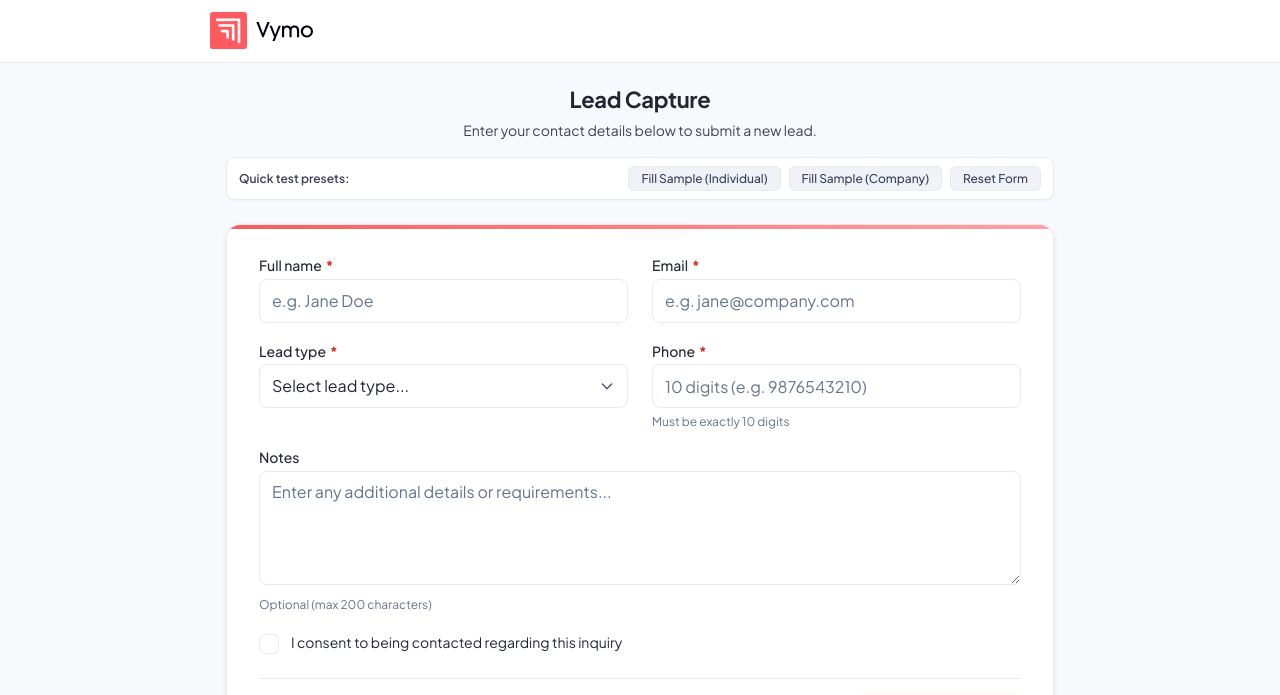
it: LeadCapturePage › displays pattern format error on phone when invalid value entered
This screenshot has width=1280, height=695.
In the field labelled "Phone*": (836, 386) top-left (652, 364), bottom-right (1021, 408), type "123"
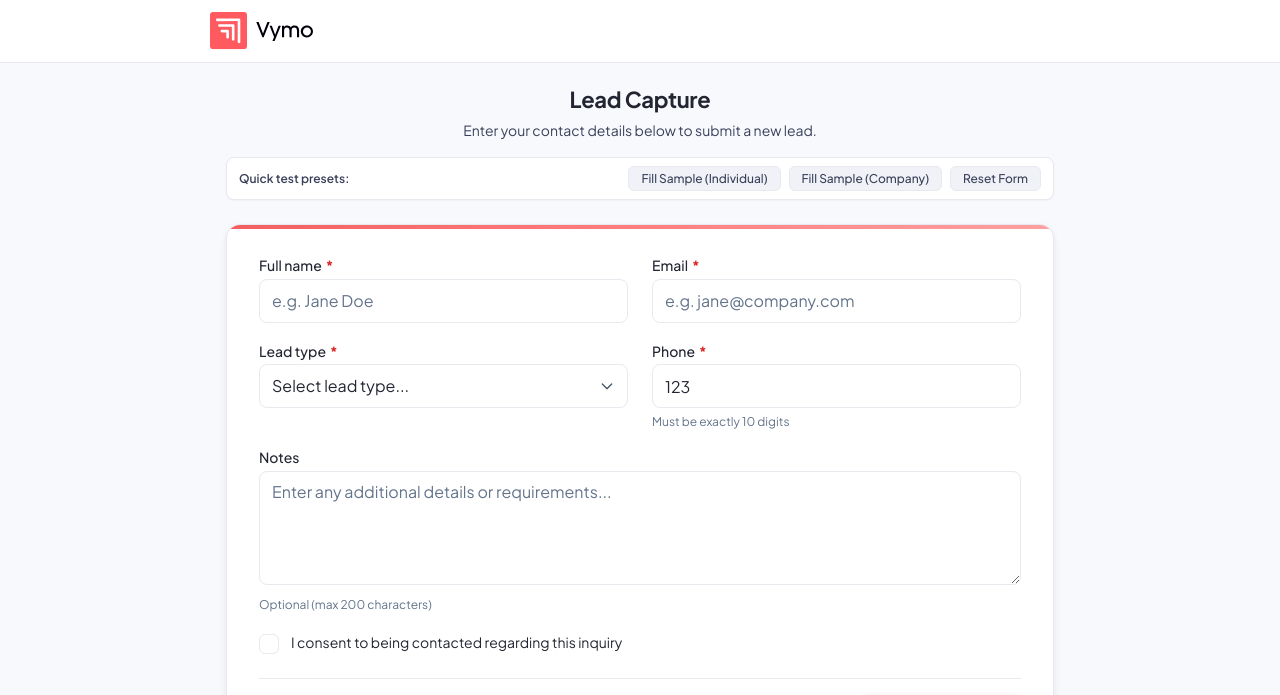
Leave the field labelled "Phone*", box top-left (652, 364), bottom-right (1021, 408)
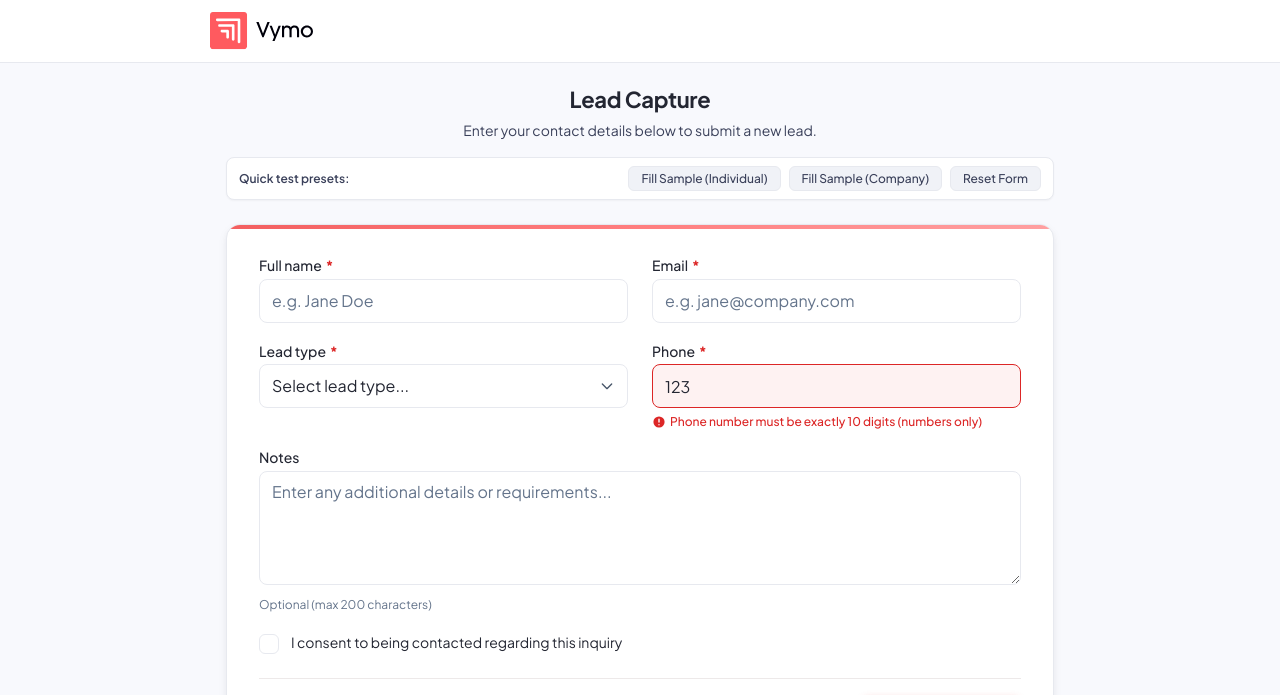
Check: the text "Phone number must be exactly 10 digits (numbers only)" is shown, box top-left (670, 414), bottom-right (982, 429)
